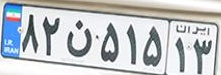character: (63, 12, 98, 62), (96, 15, 122, 67), (140, 20, 164, 72), (40, 10, 63, 59), (122, 19, 141, 70), (20, 11, 41, 56), (189, 36, 213, 74), (172, 36, 190, 75)
